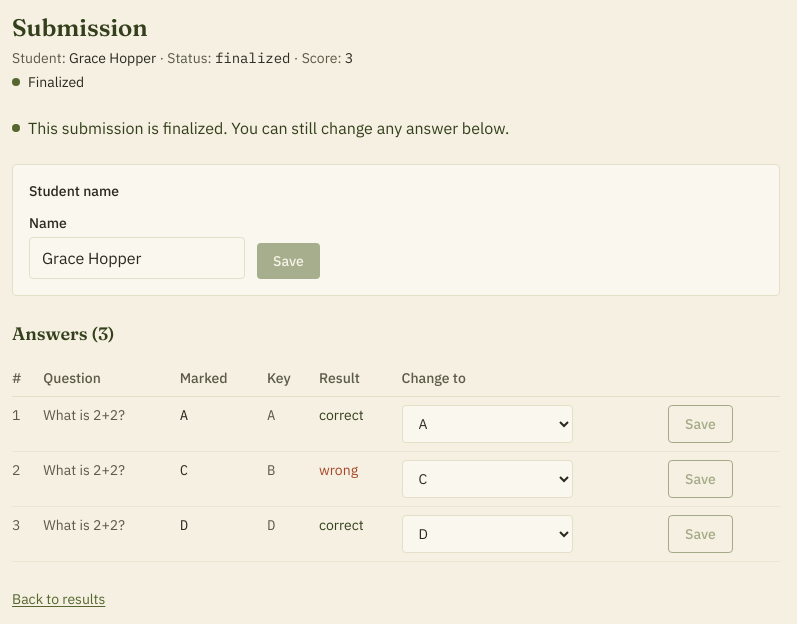
Test: submission review — full answer sheet › edits the student name at any time and marks it edited
The width and height of the screenshot is (797, 624).
Expected: the element with test id "answer-sheet" is shown, [12,320,780,562]
Replace the text in the field labelled "Name" with "Grace M. Hopper" at coordinates (137, 258), box [29,237,245,279]
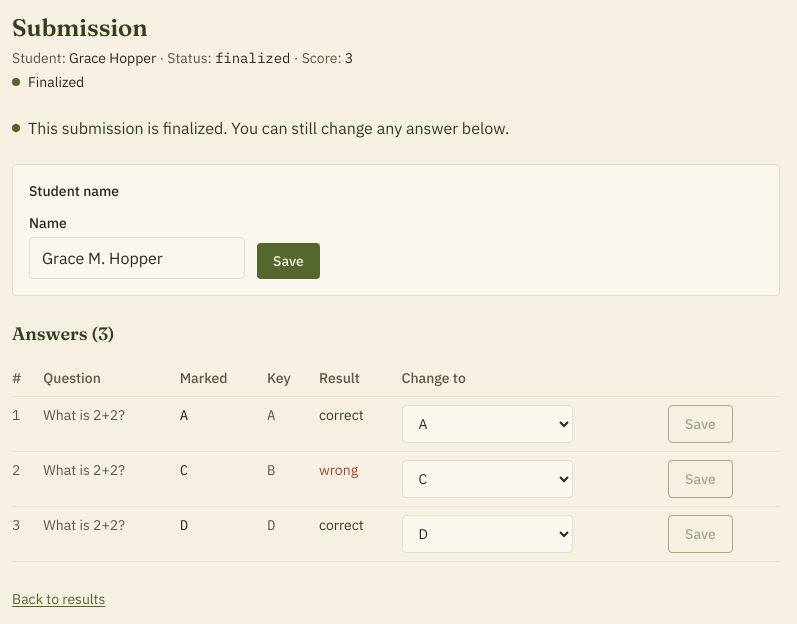
Click the button "Save" below "Student name" at coordinates (288, 261), box [257,243,320,279]
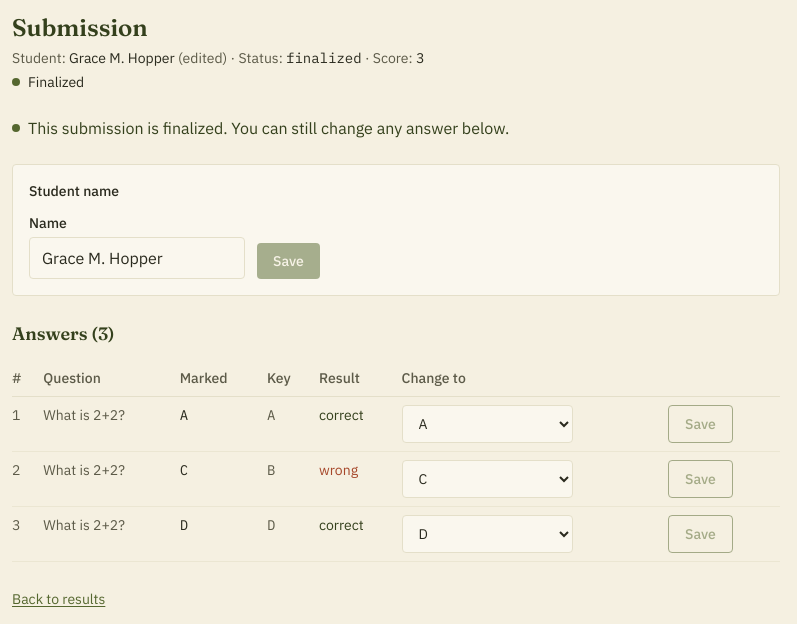
Now the text "(edited)" is shown, box [175,49,227,67]
